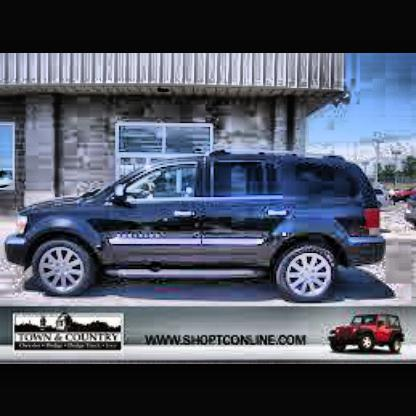Chrysler Aspen SUV 2009: (8, 152, 385, 298)
